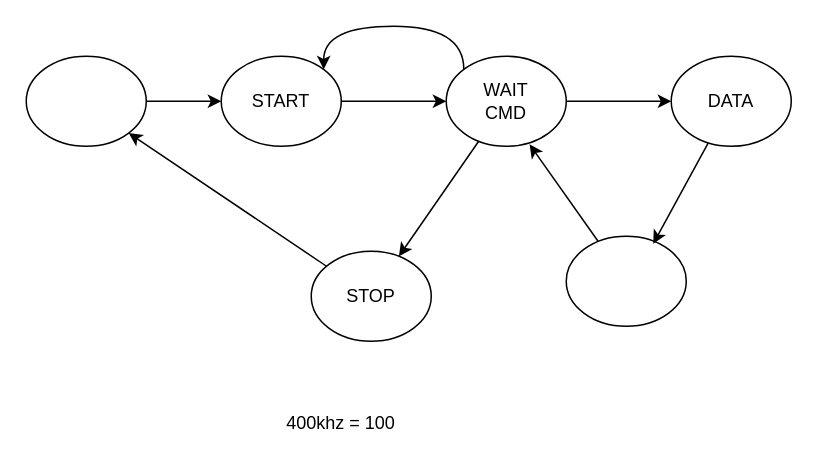
This 818x473 diagram has some shape labels left out. The box of each missing label's shape, as (x1, y1, x2, y2) in pixels:
ACK: (565, 235, 686, 326)
IDLE: (25, 55, 146, 146)
